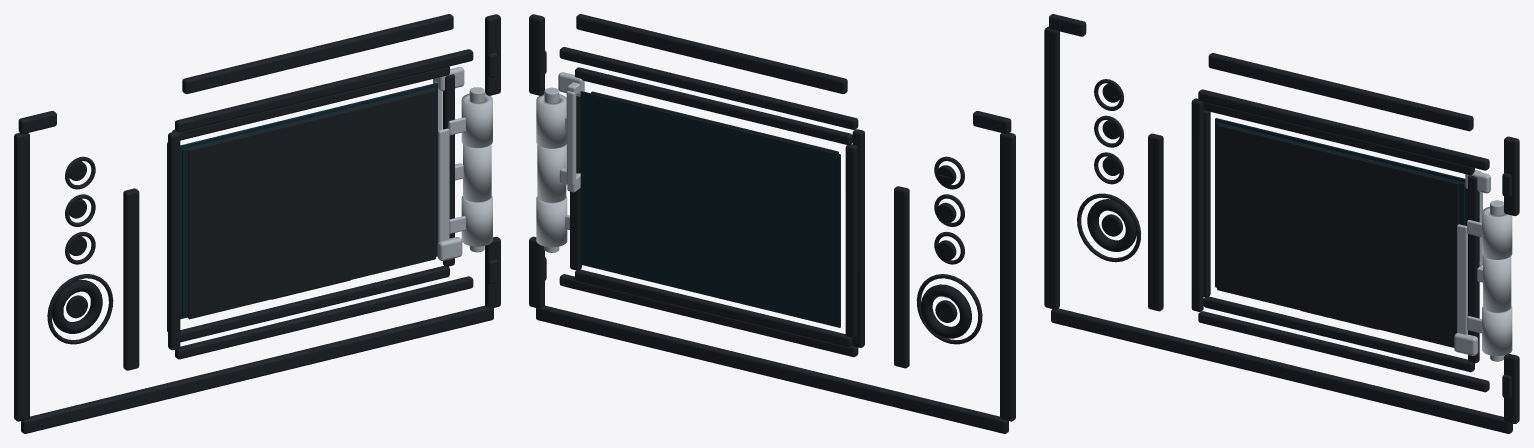
Rendered from 07_rear_lcd_controls.glb.
3 renders of one model, left to right at view 1: azimuth 30°, elevation 25°; view 2: azimuth 150°, elevation 25°; view 3: azimuth 330°, elevation 25°, orthographic. The views are drawn at different scales.
Visible parts, largest first — view 1: Z50II_lcd_frame_back_plate.001, Z50II-07-001_rear_shell_bottom.001, Z50II-07-001_rear_shell.001, Z50II-07-001_rear_shell_left.001, Z50II_rear_shell_screen_upper_web.001, Z50II_rear_shell_screen_lower_web.001, Z50II-07-002_lcd_frame_bottom.001, Z50II_rear_shell_control_spine.001, Z50II-07-005_inner_hinge_arm.001, Z50II_rear_shell_screen_inner_web.001, Z50II-07-002_lcd_frame.001, Z50II-07-003_lcd_panel.001 (+10 smaller); view 2: Z50II-07-004_lcd_cover_glass.001, Z50II-07-001_rear_shell_bottom.001, Z50II-07-001_rear_shell.001, Z50II-07-001_rear_shell_left.001, Z50II_rear_shell_screen_upper_web.001, Z50II-07-002_lcd_frame.001, Z50II-07-002_lcd_frame_bottom.001, Z50II-07-005_inner_hinge_arm.001, Z50II_rear_shell_screen_lower_web.001, Z50II_rear_shell_control_spine.001, Z50II-07-002_lcd_frame_left.001, Z50II_rear_shell_screen_inner_web.001 (+9 smaller); view 3: Z50II_lcd_frame_back_plate.001, Z50II-07-001_rear_shell_bottom.001, Z50II-07-001_rear_shell_left.001, Z50II-07-001_rear_shell.001, Z50II_rear_shell_screen_lower_web.001, Z50II_rear_shell_screen_upper_web.001, Z50II-07-002_lcd_frame_bottom.001, Z50II_rear_shell_control_spine.001, Z50II-07-005_inner_hinge_arm.001, Z50II_rear_shell_screen_inner_web.001, Z50II-07-002_lcd_frame.001, Z50II-07-002_lcd_frame_right.001 (+11 smaller).
Part boxes in pixels (<box>): Z50II_lcd_frame_back_plate.001: <box>188,89,435,319</box>; Z50II-07-001_rear_shell_bottom.001: <box>21,305,493,433</box>; Z50II-07-001_rear_shell.001: <box>182,14,453,93</box>; Z50II-07-001_rear_shell_left.001: <box>14,133,29,421</box>; Z50II_rear_shell_screen_upper_web.001: <box>175,49,473,132</box>; Z50II_rear_shell_screen_lower_web.001: <box>175,276,473,359</box>; Z50II-07-002_lcd_frame_bottom.001: <box>180,265,449,342</box>; Z50II_rear_shell_control_spine.001: <box>123,188,139,370</box>; Z50II-07-005_inner_hinge_arm.001: <box>461,93,492,246</box>; Z50II_rear_shell_screen_inner_web.001: <box>168,131,180,350</box>; Z50II-07-002_lcd_frame.001: <box>172,66,449,140</box>; Z50II-07-003_lcd_panel.001: <box>182,87,436,317</box>; Z50II-07-004_lcd_cover_glass.001: <box>580,91,840,327</box>; Z50II-07-001_rear_shell_bottom.001: <box>536,305,1008,433</box>; Z50II-07-001_rear_shell.001: <box>576,14,847,93</box>; Z50II-07-001_rear_shell_left.001: <box>1000,133,1015,421</box>; Z50II_rear_shell_screen_upper_web.001: <box>559,47,858,129</box>; Z50II-07-002_lcd_frame.001: <box>575,67,852,145</box>; Z50II-07-002_lcd_frame_bottom.001: <box>575,269,852,346</box>; Z50II-07-005_inner_hinge_arm.001: <box>536,94,567,247</box>; Z50II_rear_shell_screen_lower_web.001: <box>559,274,858,357</box>; Z50II_rear_shell_control_spine.001: <box>894,186,909,368</box>; Z50II-07-002_lcd_frame_left.001: <box>845,144,857,337</box>; Z50II_rear_shell_screen_inner_web.001: <box>852,129,864,347</box>; Z50II_lcd_frame_back_plate.001: <box>1217,124,1458,347</box>; Z50II-07-001_rear_shell_bottom.001: <box>1051,308,1512,433</box>; Z50II-07-001_rear_shell_left.001: <box>1044,26,1059,309</box>; Z50II-07-001_rear_shell.001: <box>1208,53,1473,131</box>; Z50II_rear_shell_screen_lower_web.001: <box>1198,311,1489,392</box>; Z50II_rear_shell_screen_upper_web.001: <box>1198,89,1489,170</box>; Z50II-07-002_lcd_frame_bottom.001: <box>1203,296,1474,372</box>; Z50II_rear_shell_control_spine.001: <box>1148,133,1163,311</box>; Z50II-07-005_inner_hinge_arm.001: <box>1482,206,1512,355</box>; Z50II_rear_shell_screen_inner_web.001: <box>1191,98,1203,311</box>; Z50II-07-002_lcd_frame.001: <box>1203,102,1474,175</box>; Z50II-07-002_lcd_frame_right.001: <box>1468,175,1479,363</box>.
Size of the model in its own units: 0.108 by 0.067 by 0.0075.
5 materials, 1 textured.
